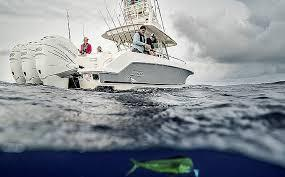fishing boat: (4, 0, 197, 92)
